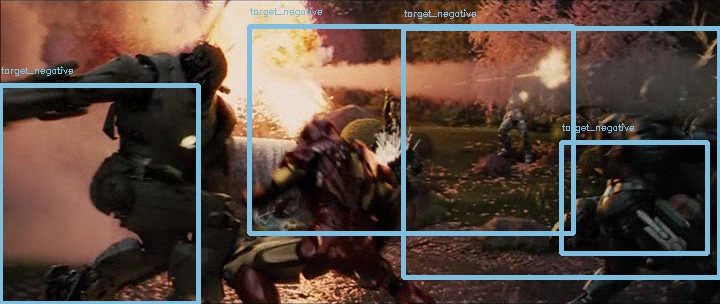person: (299, 120, 341, 157), (298, 120, 340, 157), (300, 120, 342, 157), (299, 119, 341, 156), (299, 121, 341, 158)
target_negative: (196, 28, 716, 119), (362, 132, 611, 236), (640, 179, 688, 261), (537, 239, 568, 279), (473, 260, 517, 268), (694, 290, 707, 294)
